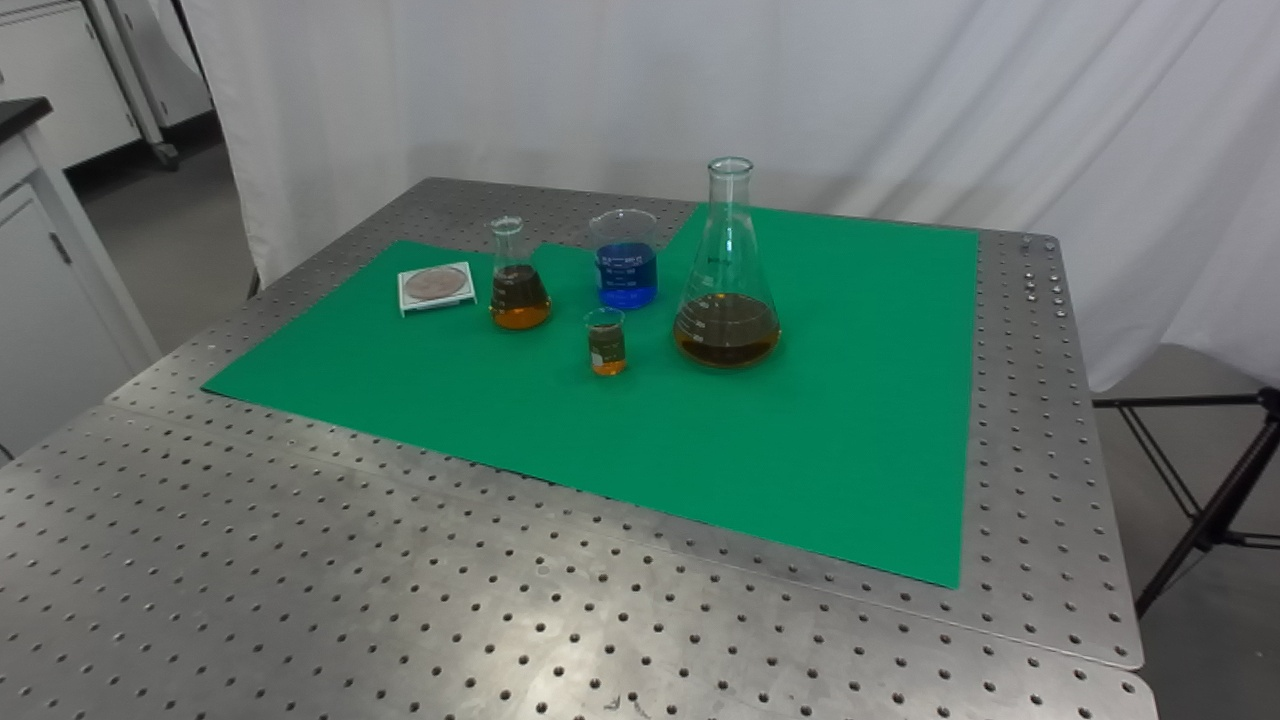glass: (670, 153, 786, 375), (477, 212, 555, 336), (583, 205, 660, 314), (580, 304, 630, 382)
plate: (394, 257, 481, 318)
